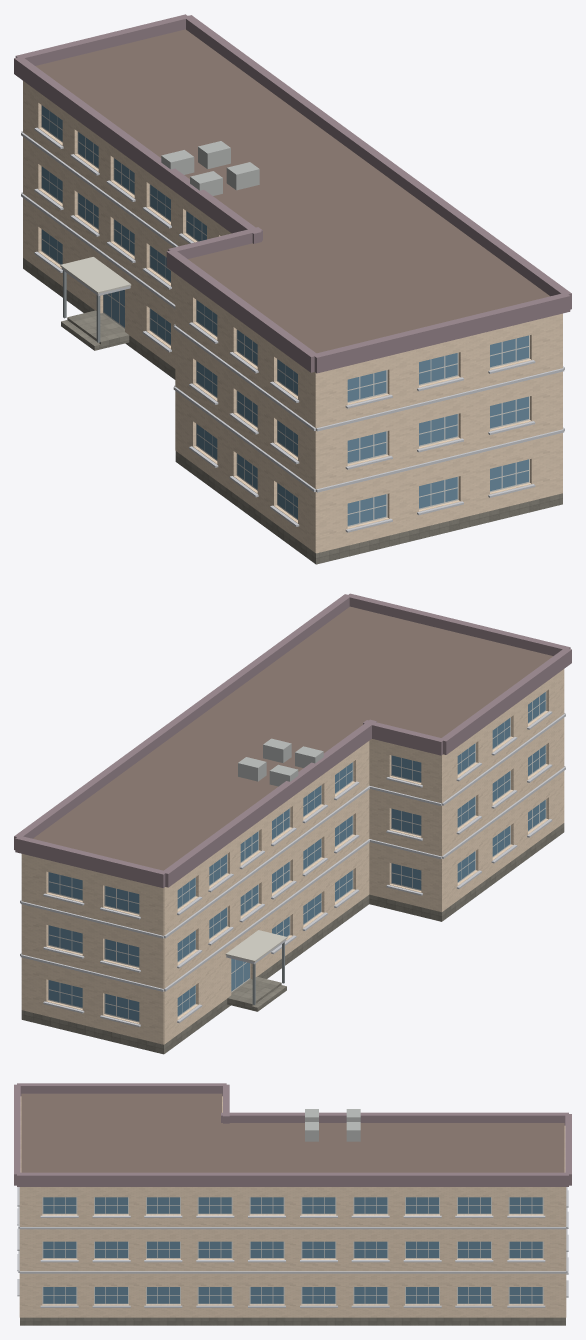
The picture shows the model from 3 angles, top to bottom: view 1: azimuth 30°, elevation 25°; view 2: azimuth 150°, elevation 25°; view 3: azimuth 270°, elevation 25°; orthographic projection. The views are drawn at different scales.
Parts seen in each view (by area): view 1: annex__brick, annex__brownroof, annex__cornice, annex__white, annex__sideglass, annex__glass, annex__stone, annex__frame, annex__unit, annex__cap, annex__threshold-annex-west, annex__stair-annex-west; view 2: annex__brick, annex__brownroof, annex__cornice, annex__sideglass, annex__white, annex__stone, annex__frame, annex__unit, annex__cap, annex__threshold-annex-west, annex__stair-annex-west; view 3: annex__brick, annex__brownroof, annex__sideglass, annex__cornice, annex__white, annex__frame, annex__stone, annex__unit.
Boxes of the visible parts, <box> form: annex__brick: <box>23,81,562,553</box>; annex__brownroof: <box>35,29,549,353</box>; annex__cornice: <box>14,14,571,373</box>; annex__white: <box>21,127,564,532</box>; annex__sideglass: <box>42,105,297,518</box>; annex__glass: <box>103,290,528,525</box>; annex__stone: <box>23,258,562,564</box>; annex__frame: <box>41,105,529,526</box>; annex__unit: <box>161,141,259,195</box>; annex__cap: <box>60,257,131,293</box>; annex__threshold-annex-west: <box>74,310,129,347</box>; annex__stair-annex-west: <box>61,316,107,350</box>; annex__brick: <box>21,669,564,1044</box>; annex__brownroof: <box>33,606,552,870</box>; annex__cornice: <box>14,593,571,888</box>; annex__sideglass: <box>49,692,545,1021</box>; annex__white: <box>20,711,565,1027</box>; annex__stone: <box>21,823,564,1054</box>; annex__frame: <box>48,691,546,1022</box>; annex__unit: <box>238,738,323,786</box>; annex__cap: <box>225,930,287,962</box>; annex__threshold-annex-west: <box>227,977,275,1008</box>; annex__stair-annex-west: <box>246,981,286,1011</box>; annex__brick: <box>19,1096,566,1317</box>; annex__brownroof: <box>21,1093,564,1172</box>; annex__sideglass: <box>43,1197,542,1303</box>; annex__cornice: <box>14,1083,571,1186</box>; annex__white: <box>17,1187,568,1307</box>; annex__frame: <box>42,1197,543,1304</box>; annex__stone: <box>20,1317,565,1325</box>; annex__unit: <box>305,1109,360,1141</box>.
Bounding box in the file's own units: 15.64 × 12.46 × 39.94.
Materials: 11 (3 with a texture image).
